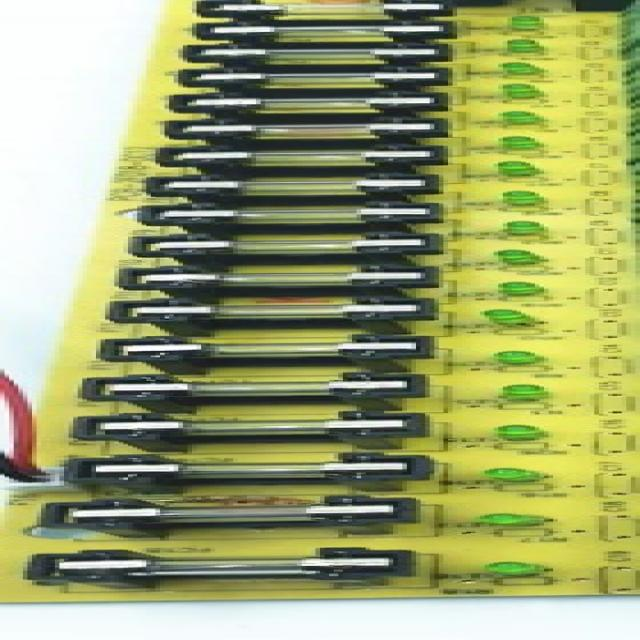LED: (459, 460, 565, 486), (468, 508, 564, 536), (462, 556, 565, 580), (485, 219, 579, 242), (481, 344, 554, 372), (472, 384, 572, 404), (475, 306, 550, 332), (482, 245, 558, 270), (478, 421, 558, 444), (484, 278, 564, 301), (501, 188, 561, 214), (478, 162, 554, 182), (481, 58, 554, 78), (478, 79, 554, 98), (485, 108, 554, 128), (497, 36, 568, 55), (488, 133, 554, 153), (501, 12, 561, 32)
fuse F1: (19, 547, 404, 586), (58, 452, 476, 486), (83, 261, 454, 296), (86, 295, 432, 331), (74, 373, 436, 403), (35, 497, 393, 527), (32, 410, 404, 438), (122, 172, 450, 198), (83, 338, 436, 361), (116, 233, 450, 255), (109, 204, 457, 224), (135, 147, 458, 168), (173, 92, 468, 114), (135, 120, 443, 140), (189, 16, 454, 38), (173, 46, 458, 65), (170, 68, 454, 86), (180, 0, 476, 17)
